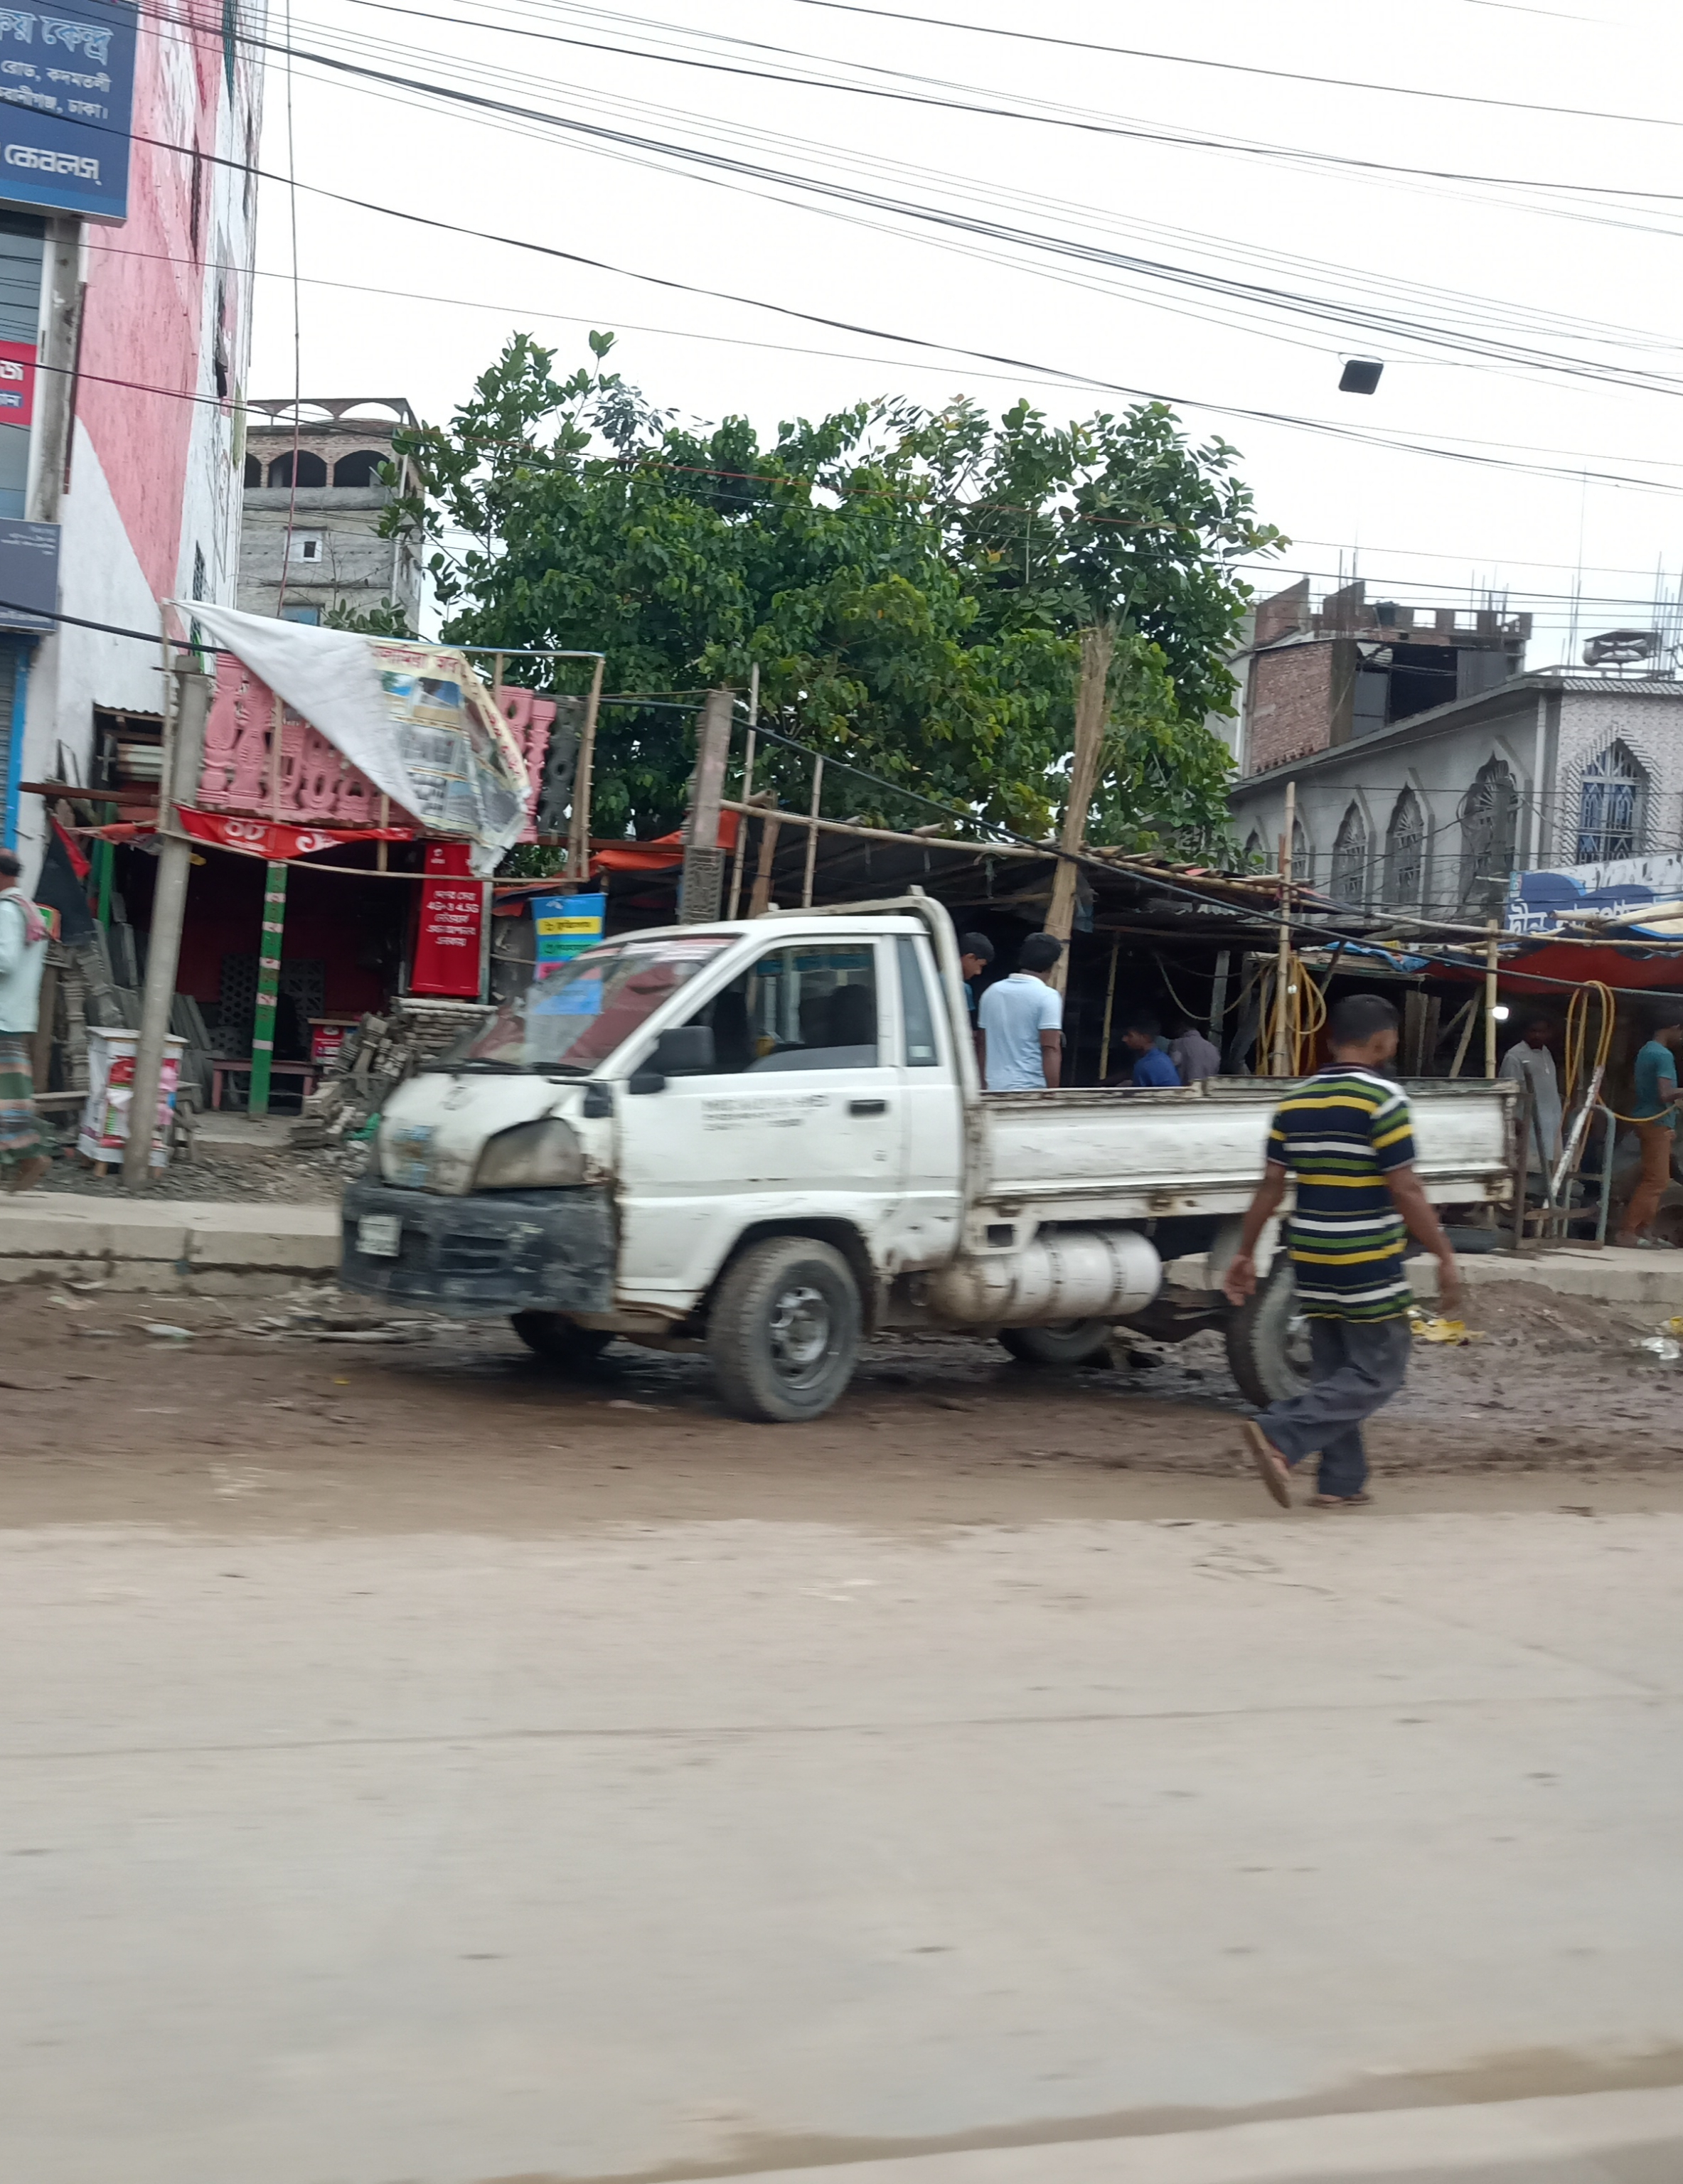truck: (384, 875, 1510, 1415)
